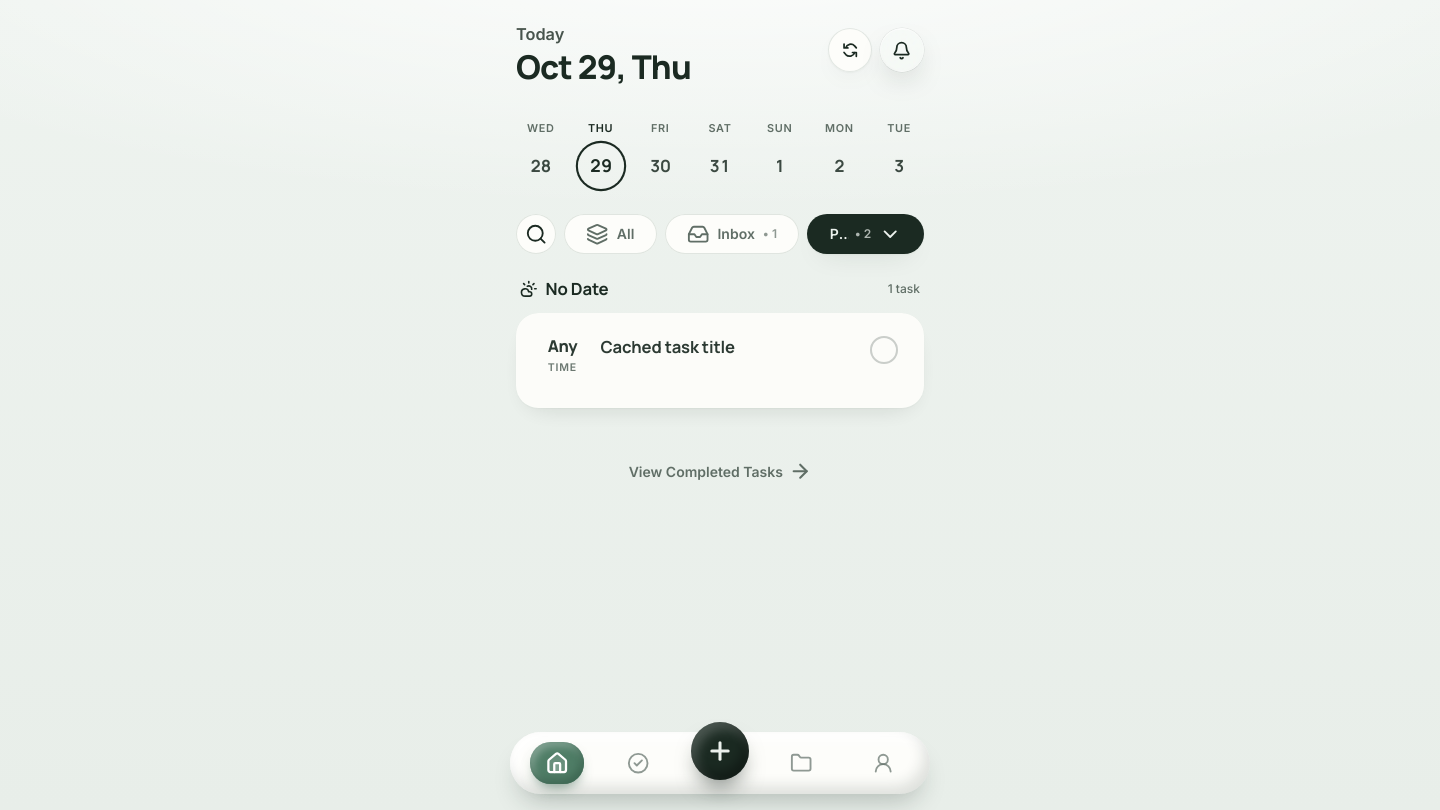
Scenario: tasks flow › uses cached grouped tasks immediately and refreshes them from the button
This screenshot has width=1440, height=810.
Expected: the heading "Cached task title" is shown, [600,335,735,358]
Click the button named "Refresh tasks". click: (850, 50)
box: [828,28,872,72]
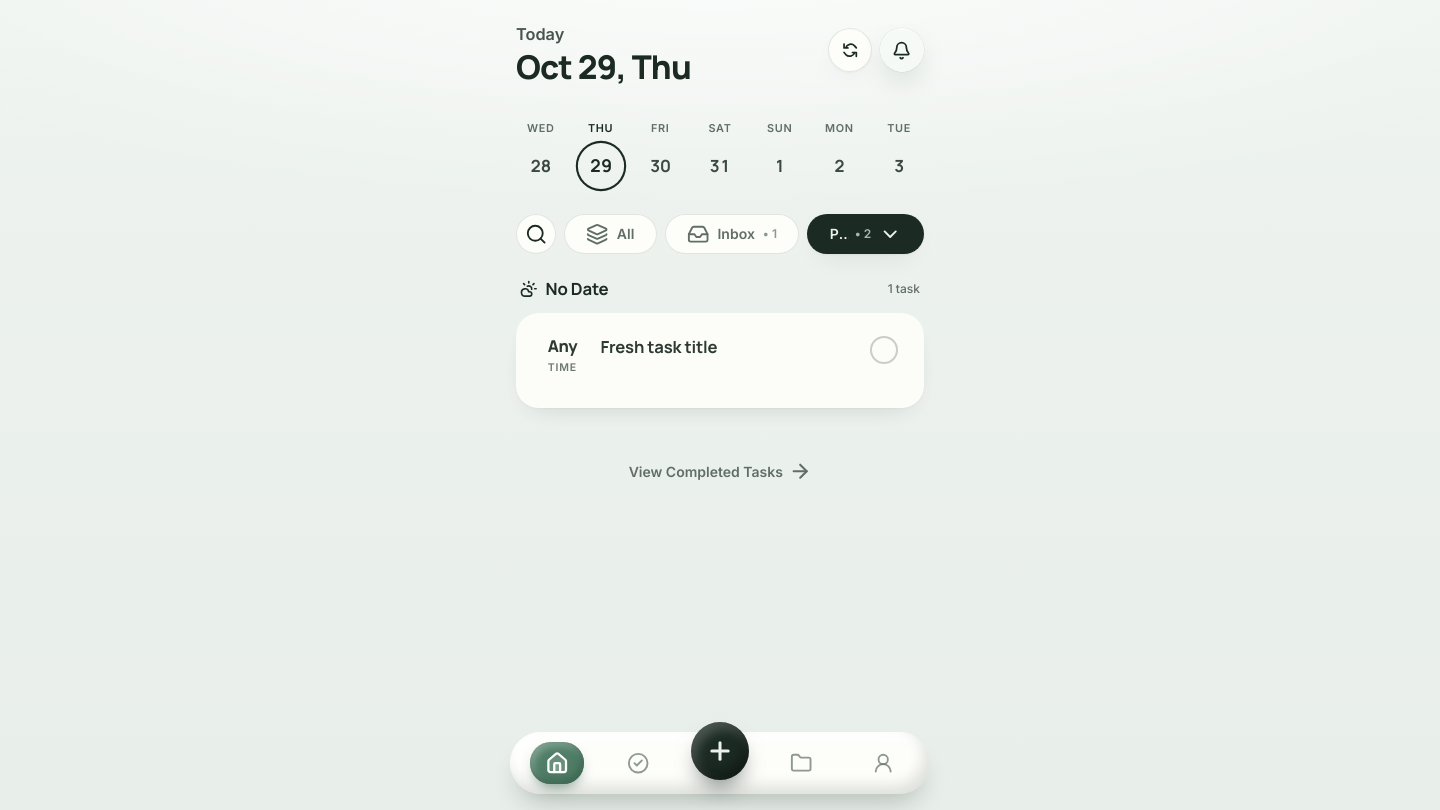
Expected: the heading "Fresh task title" is shown, [600,335,717,358]
